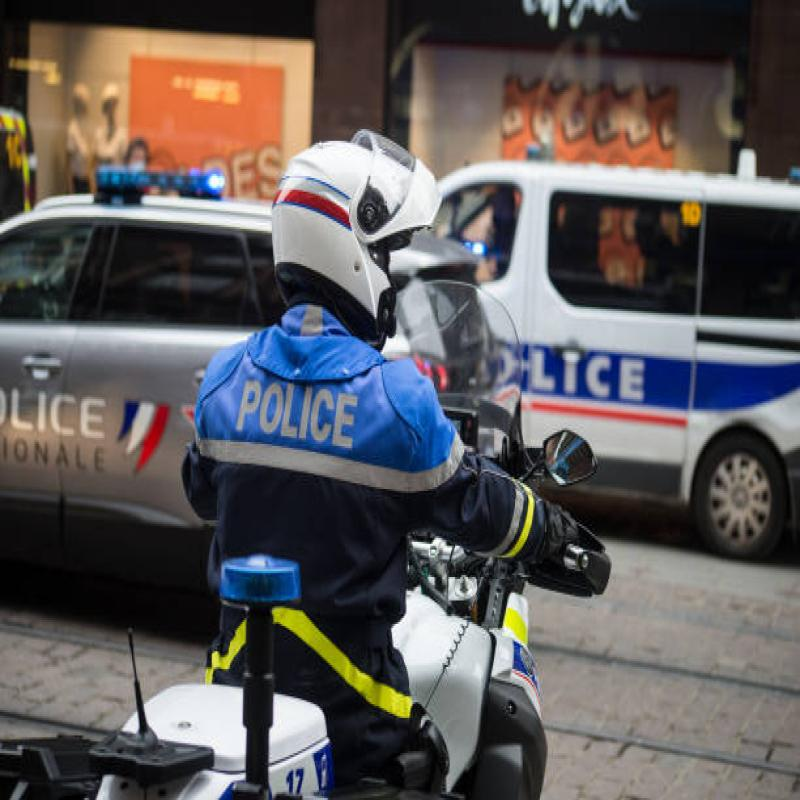AmbulanceSiren: (62, 143, 245, 205)
